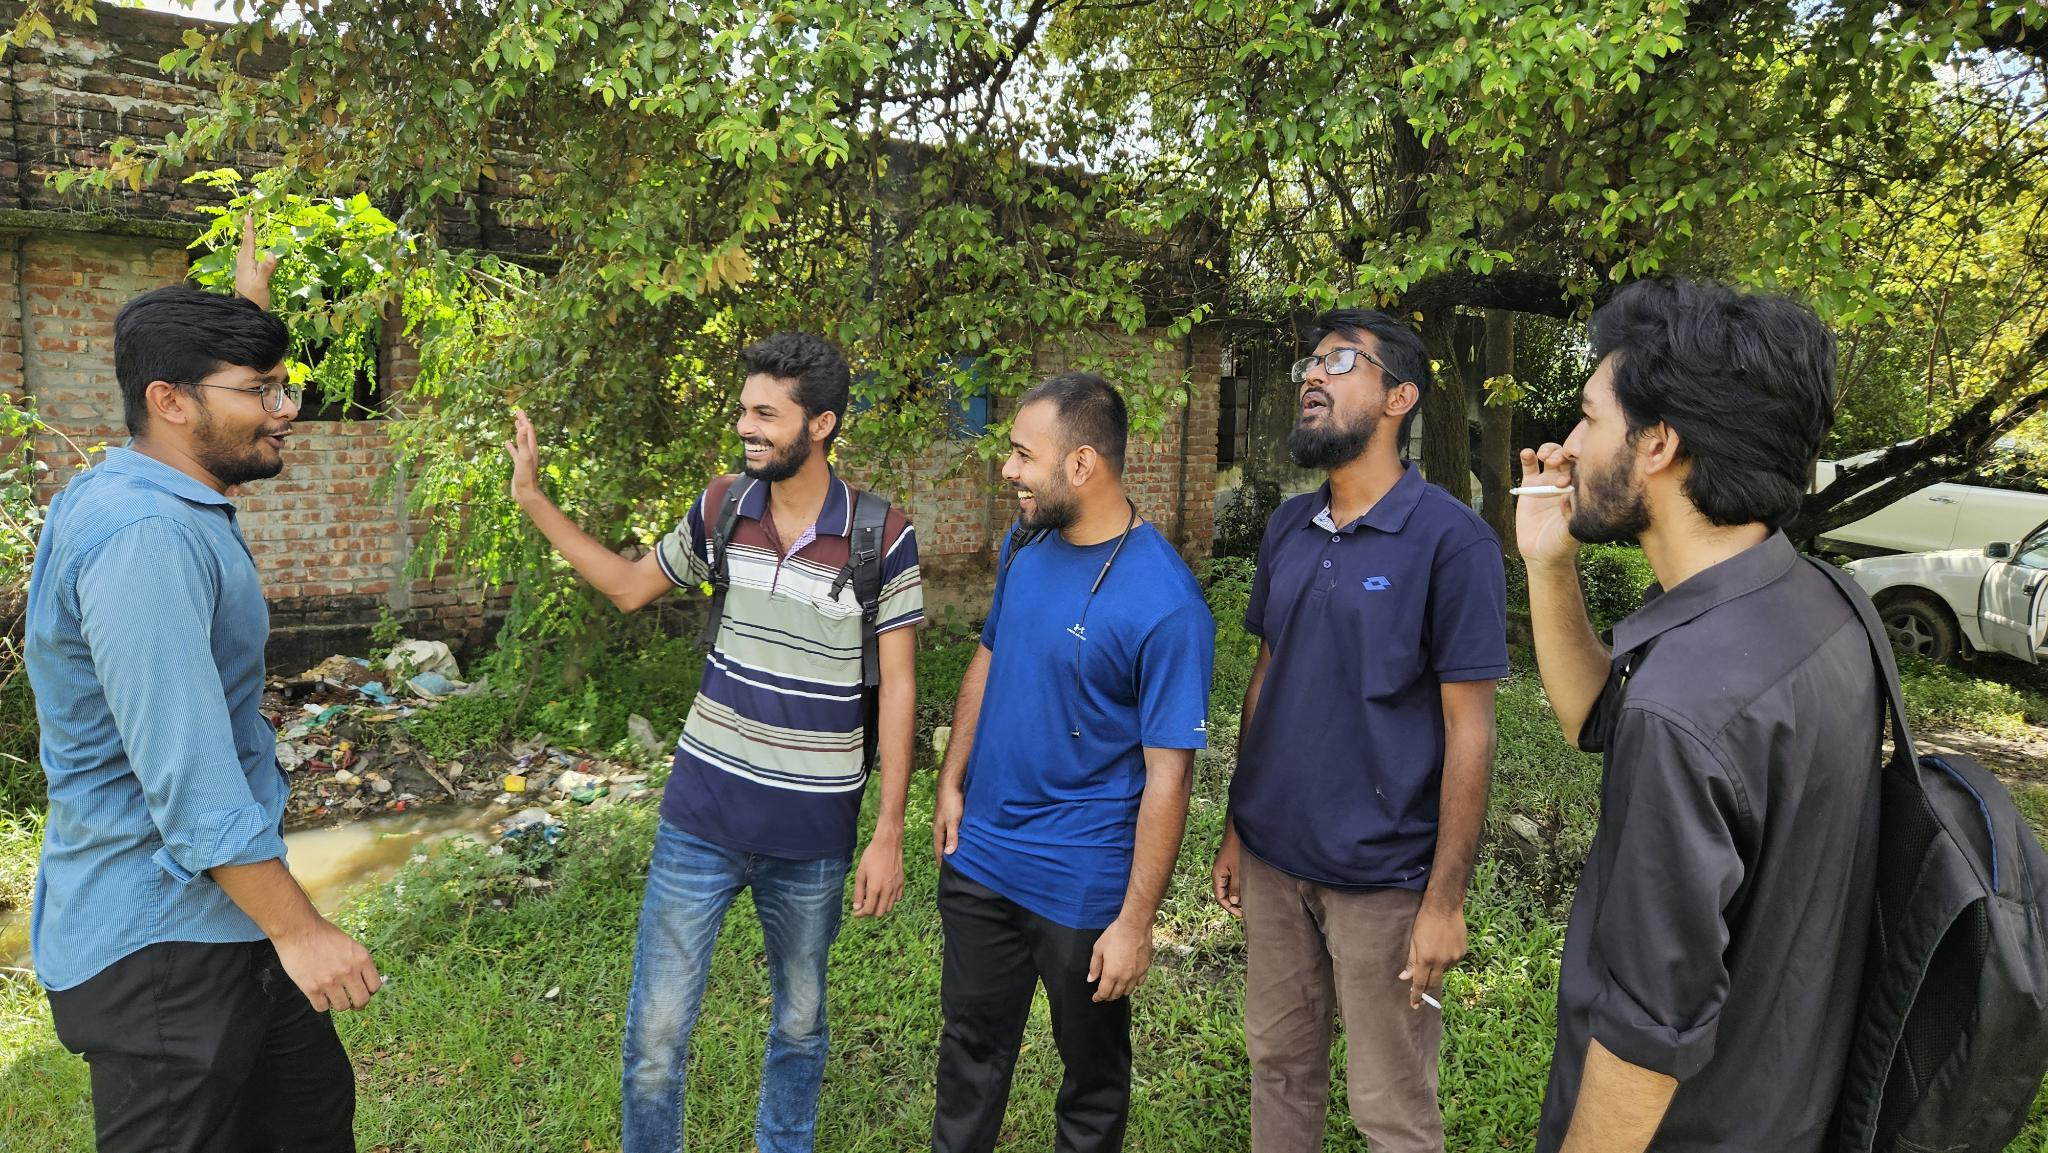cigarette: (1505, 478, 1578, 499), (1409, 987, 1443, 1011)
nonSmoker: (504, 332, 928, 1153), (35, 283, 388, 1153), (933, 361, 1210, 1153)
smoker: (1512, 276, 2048, 1153), (1214, 308, 1509, 1153)
